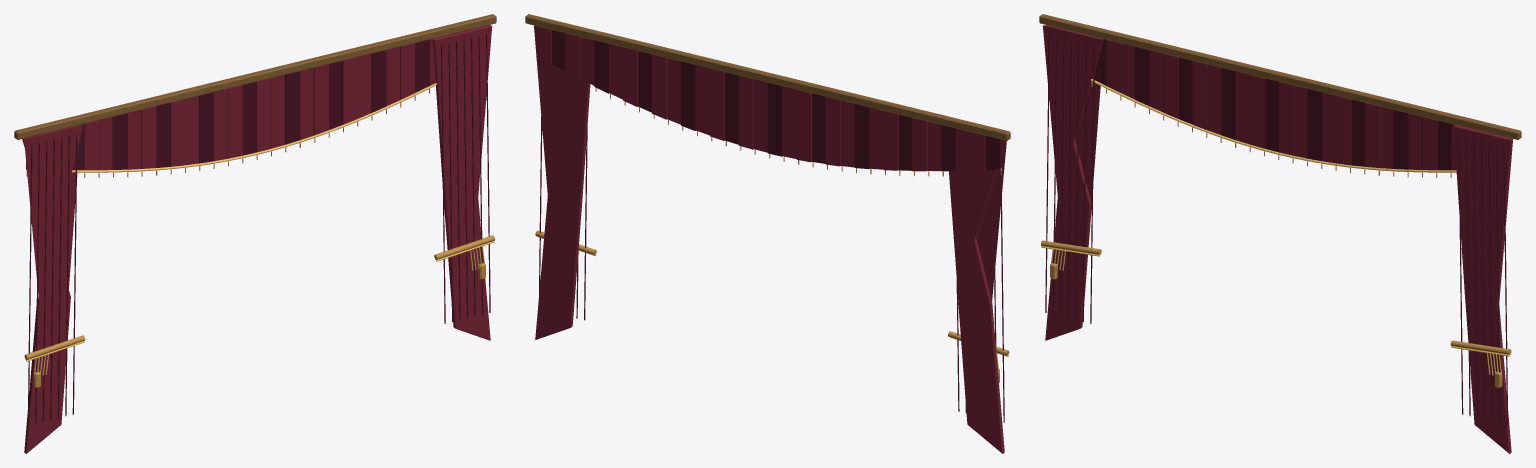
File: SM_Stage3_TheatreCurtains.fbx
The picture shows the model from 3 angles, left to right: view 1: azimuth 30°, elevation 25°; view 2: azimuth 150°, elevation 25°; view 3: azimuth 330°, elevation 25°; orthographic projection.
Parts seen in each view (by area): view 1: SM_Stage3_TheatreCurtains; view 2: SM_Stage3_TheatreCurtains; view 3: SM_Stage3_TheatreCurtains.
Boxes of the visible parts, x1=… form: SM_Stage3_TheatreCurtains: x1=14, y1=14, x2=496, y2=453; SM_Stage3_TheatreCurtains: x1=525, y1=14, x2=1010, y2=453; SM_Stage3_TheatreCurtains: x1=1039, y1=14, x2=1521, y2=453.
Bounding box in the file's own units: 960 × 26 × 616.
